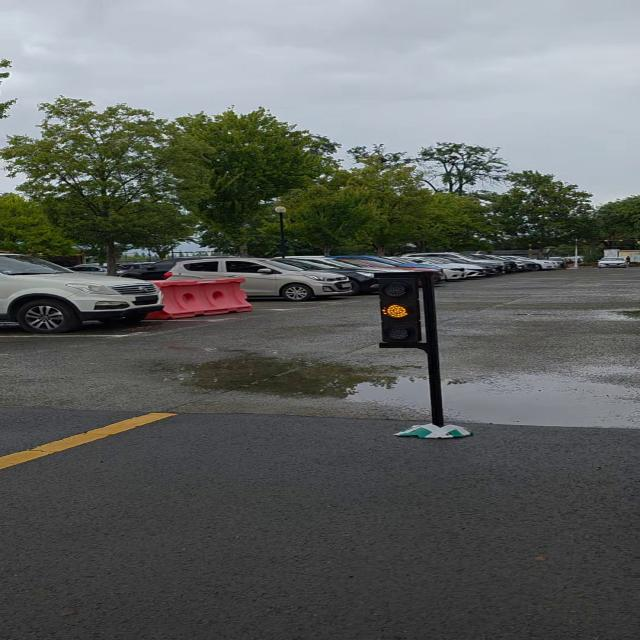yellow: (374, 274, 430, 351)
